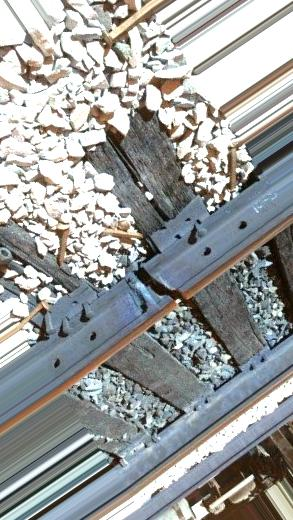tracks_fault: (93, 233, 226, 334)
